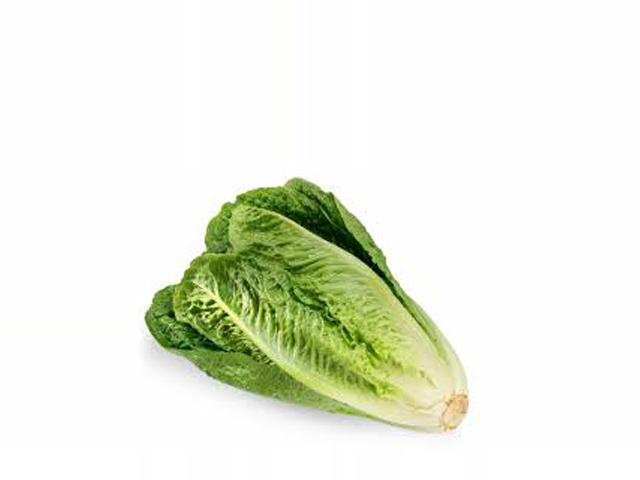lettuce: (145, 181, 490, 439)
